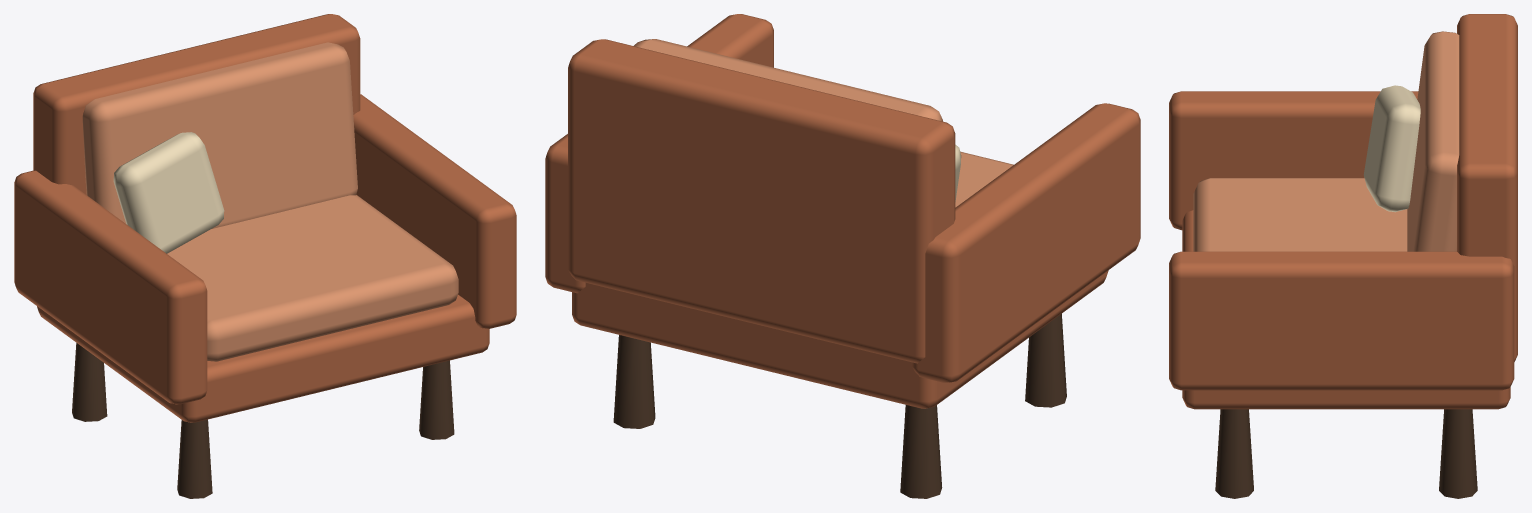
Rendered from cozy-lounge.glb.
The picture shows the model from 3 angles, left to right: view 1: azimuth 30°, elevation 25°; view 2: azimuth 150°, elevation 25°; view 3: azimuth 270°, elevation 25°; orthographic projection. The views are drawn at different scales.
Visible parts, largest first — view 1: Back cushion, Seat cushion, Left arm, Right arm, Seat frame, Back frame, Linen pillow, Wood leg -0.61 0.46, Wood leg 0.61 0.46, Wood leg -0.61 -0.46; view 2: Back frame, Left arm, Seat frame, Right arm, Back cushion, Wood leg -0.61 -0.46, Wood leg 0.61 -0.46, Wood leg -0.61 0.46, Seat cushion; view 3: Right arm, Left arm, Back frame, Seat cushion, Back cushion, Seat frame, Linen pillow, Wood leg 0.61 -0.46, Wood leg 0.61 0.46.
Part boxes in pixels (x1=…): Back cushion: x1=82, y1=42, x2=357, y2=228; Seat cushion: x1=167, y1=195, x2=458, y2=361; Left arm: x1=14, y1=170, x2=207, y2=404; Right arm: x1=353, y1=94, x2=516, y2=328; Seat frame: x1=37, y1=294, x2=489, y2=422; Back frame: x1=33, y1=14, x2=360, y2=194; Linen pillow: x1=113, y1=132, x2=224, y2=253; Wood leg -0.61 0.46: x1=177, y1=419, x2=212, y2=498; Wood leg 0.61 0.46: x1=419, y1=360, x2=454, y2=439; Wood leg -0.61 -0.46: x1=72, y1=343, x2=107, y2=421; Back frame: x1=568, y1=39, x2=955, y2=363; Left arm: x1=912, y1=103, x2=1140, y2=382; Seat frame: x1=572, y1=270, x2=1108, y2=408; Right arm: x1=545, y1=14, x2=773, y2=293; Back cushion: x1=634, y1=39, x2=942, y2=121; Wood leg -0.61 -0.46: x1=900, y1=405, x2=942, y2=498; Wood leg 0.61 -0.46: x1=613, y1=335, x2=655, y2=428; Wood leg -0.61 0.46: x1=1025, y1=313, x2=1066, y2=407; Seat cushion: x1=955, y1=151, x2=1013, y2=207; Right arm: x1=1169, y1=251, x2=1514, y2=390; Left arm: x1=1169, y1=91, x2=1418, y2=230; Back frame: x1=1457, y1=14, x2=1517, y2=361; Seat cushion: x1=1193, y1=178, x2=1407, y2=251; Back cushion: x1=1407, y1=31, x2=1459, y2=251; Seat frame: x1=1182, y1=210, x2=1510, y2=409; Linen pillow: x1=1363, y1=85, x2=1420, y2=212; Wood leg 0.61 -0.46: x1=1439, y1=409, x2=1477, y2=498; Wood leg 0.61 0.46: x1=1215, y1=409, x2=1253, y2=498.
Bounding box in the file's own units: 1.76 × 1.54 × 1.43.
